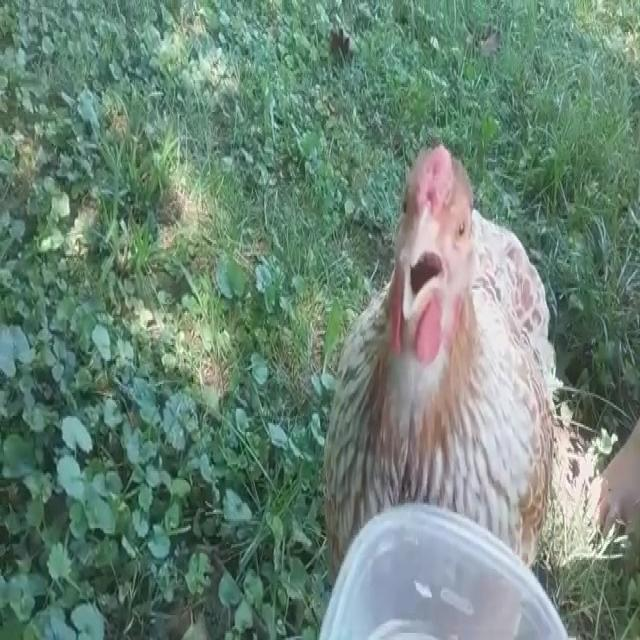Breathing: (319, 142, 564, 562)
